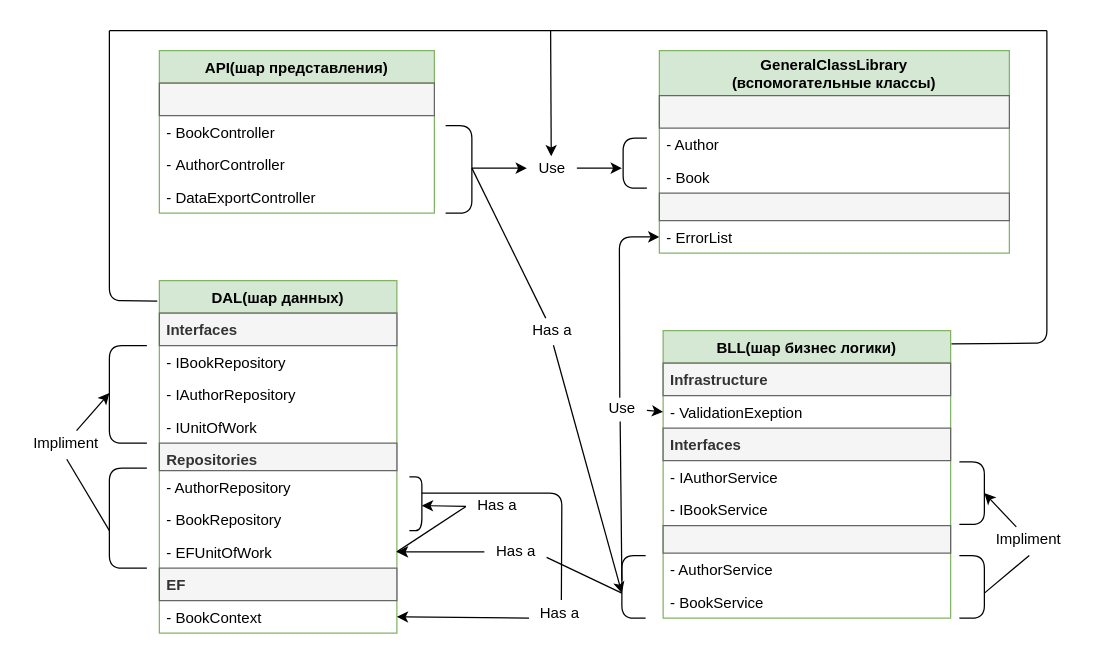
Image size: 1093x659. Some labels were removed from this diagram. Here are the shapes that lost their labels. From the top down, the centre of each, then its label:
At (296,99): "Controllers".
At (833,111): "Entities".
At (833,206): "Enums".
At (806,538): "Services".
